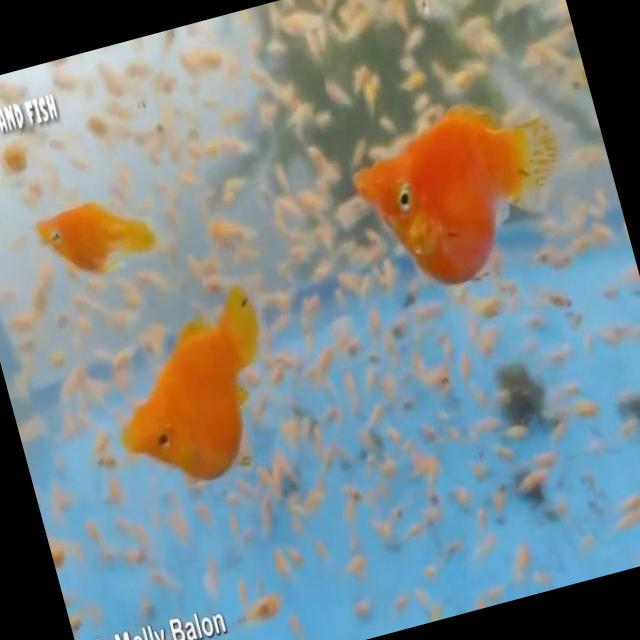PlatyFish: (336, 74, 592, 310), (85, 273, 299, 506), (22, 165, 168, 296)
